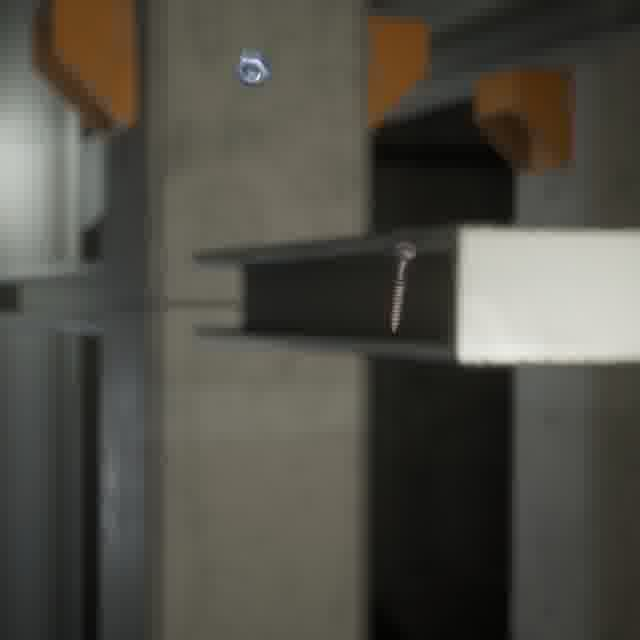bolt: (385, 237, 421, 336)
nut: (229, 46, 276, 91)
